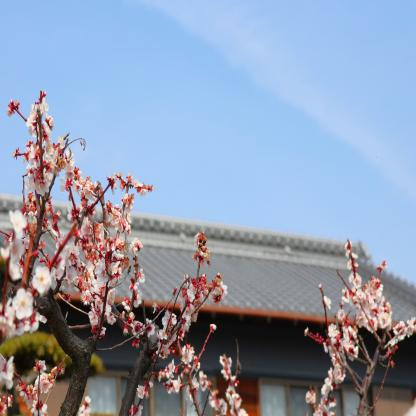Ume: (1, 82, 251, 416), (291, 233, 416, 416)
